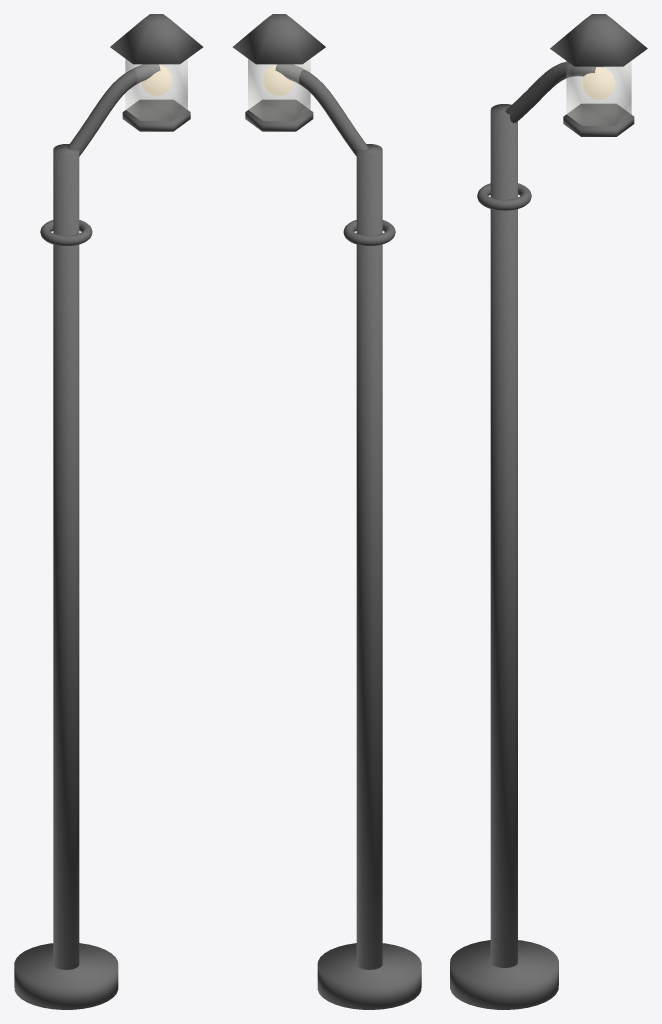
The model's file is Lamp_Street.glb.
3 renders of one model, left to right at view 1: azimuth 30°, elevation 25°; view 2: azimuth 150°, elevation 25°; view 3: azimuth 330°, elevation 25°, orthographic. The views are drawn at different scales.
Parts seen in each view (by area): view 1: lamp_street_base; view 2: lamp_street_base; view 3: lamp_street_base.
Boxes of the visible parts, <box> form: lamp_street_base: <box>14,14,203,1009</box>; lamp_street_base: <box>232,14,421,1009</box>; lamp_street_base: <box>450,14,647,1009</box>.
Bounding box in the file's own units: 0.7559 × 4.01 × 0.4.
